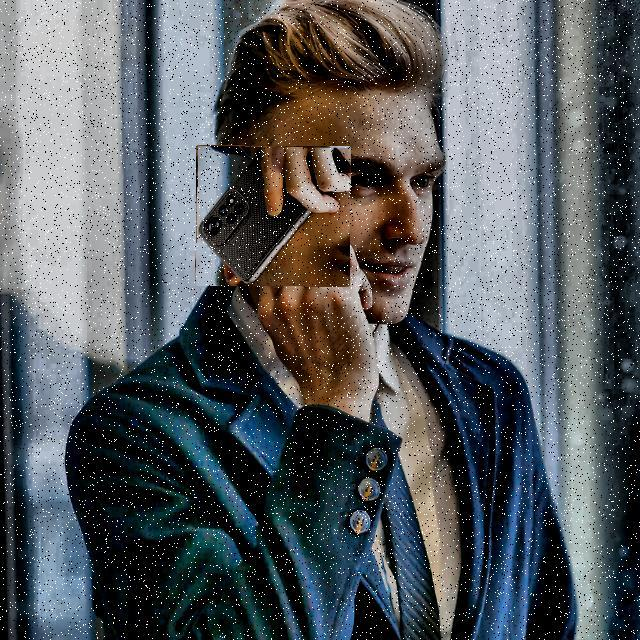Phone: (196, 146, 350, 286)
